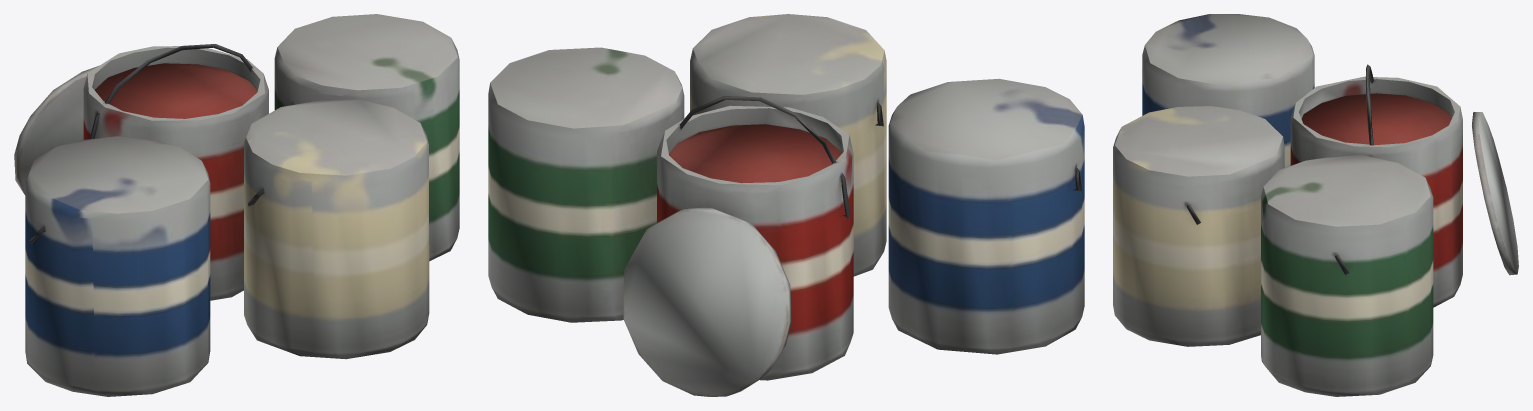
The model's file is paint_cans-low.glb.
The picture shows the model from 3 angles, left to right: view 1: azimuth 30°, elevation 25°; view 2: azimuth 150°, elevation 25°; view 3: azimuth 270°, elevation 25°; orthographic projection. The views are drawn at different scales.
Visible parts, largest first — view 1: paint_cans-low; view 2: paint_cans-low; view 3: paint_cans-low.
Part boxes in pixels (bbox=[...]): paint_cans-low: bbox=[14, 14, 459, 396]; paint_cans-low: bbox=[488, 14, 1084, 396]; paint_cans-low: bbox=[1113, 14, 1518, 396].
Size of the model in its own units: 0.533 by 0.233 by 0.4106.
1 material, 1 textured.
